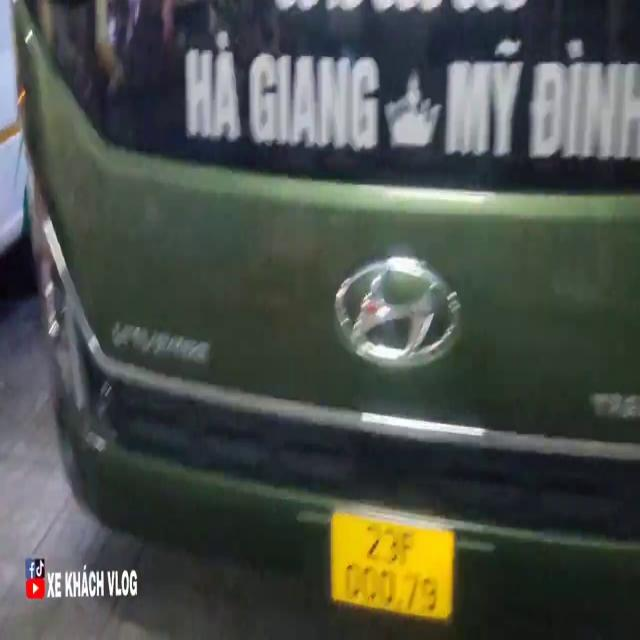bien_vang: (328, 501, 454, 618)
